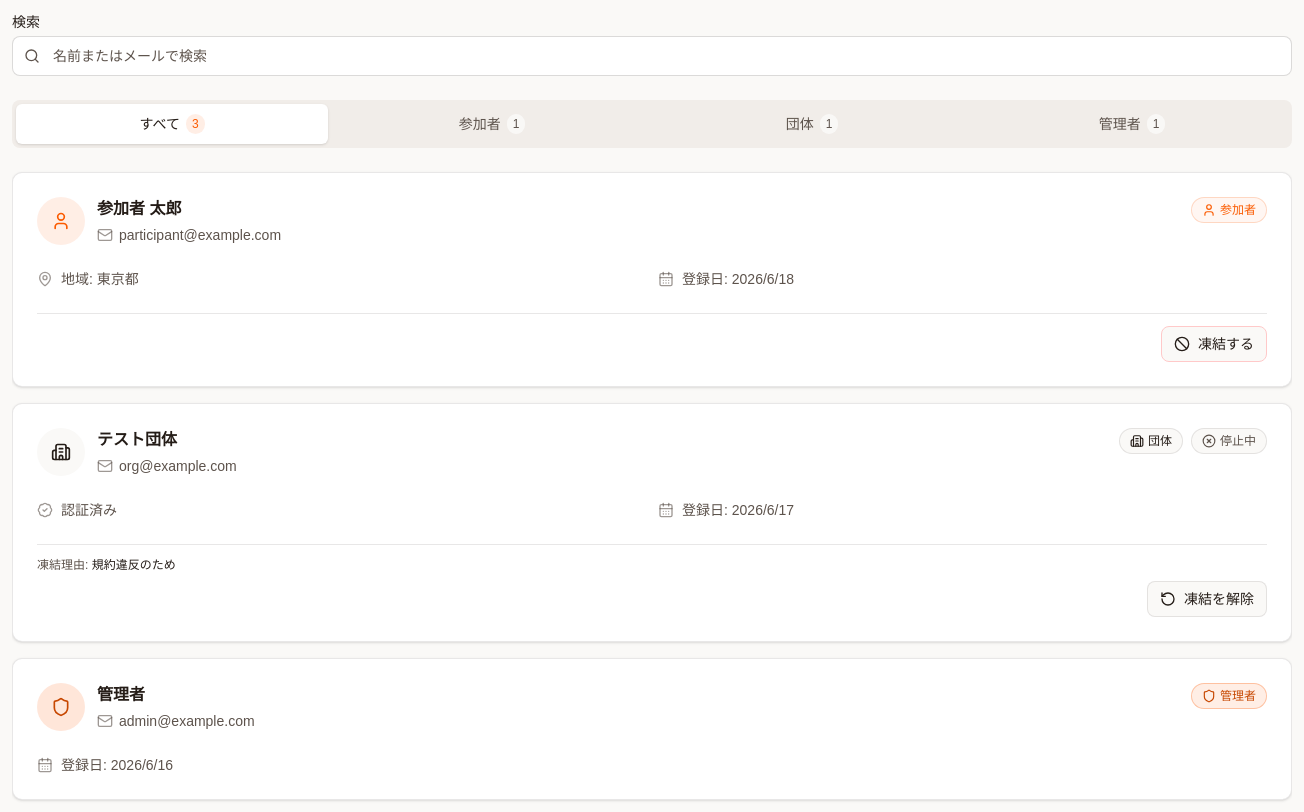
Test: AdminUserList › 参加者と団体には凍結/解除操作を表示し、管理者には表示しない
Expected: the text "停止中" is shown, [1191,428,1267,454]
Expected: the button "凍結する" is shown, [1161,326,1267,362]
Click the button "管理者 1": (1132,124) [976,104,1288,144]
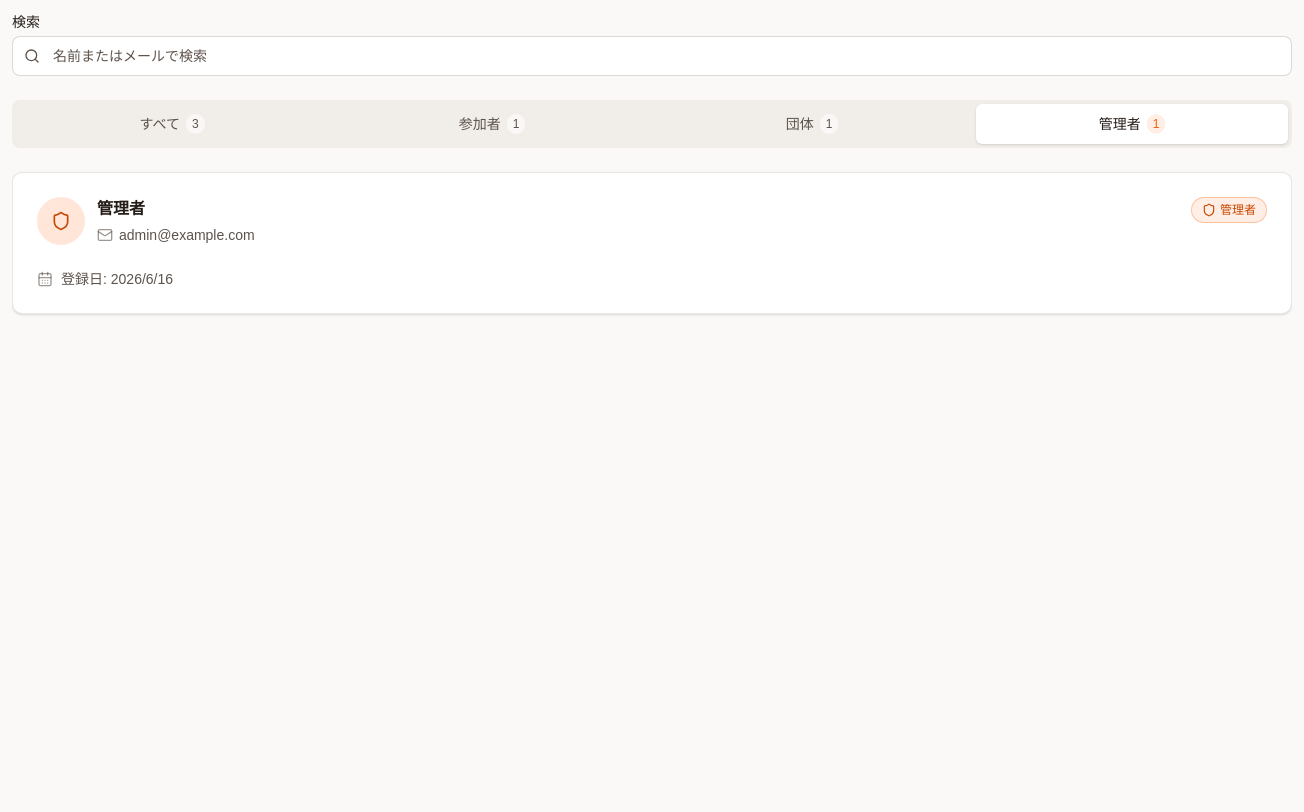
Expected: the heading "管理者" is shown, [97,200,145,217]
Now the button "凍結する" is gone
Now the button "凍結を解除" is gone
